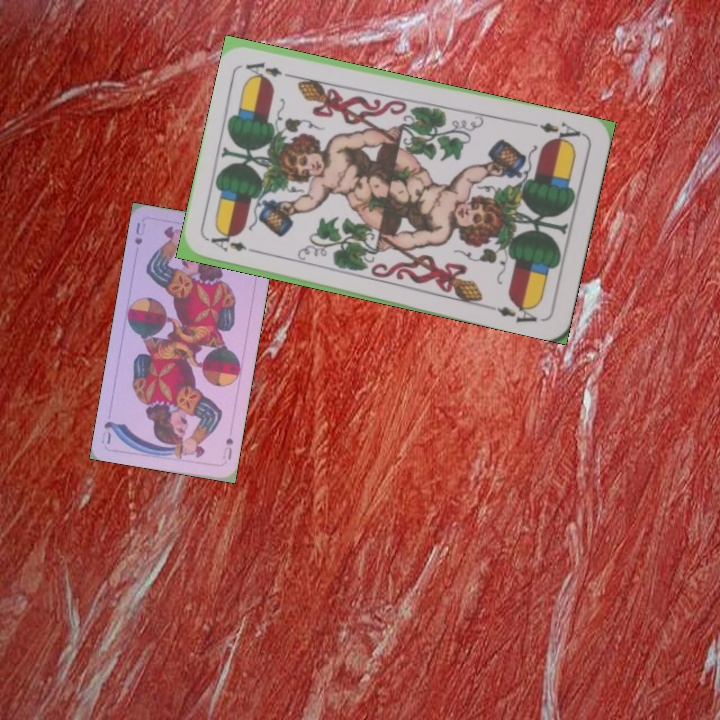EA: (528, 118, 587, 147), (206, 232, 263, 256)
SU: (131, 218, 148, 247), (219, 433, 236, 462)
